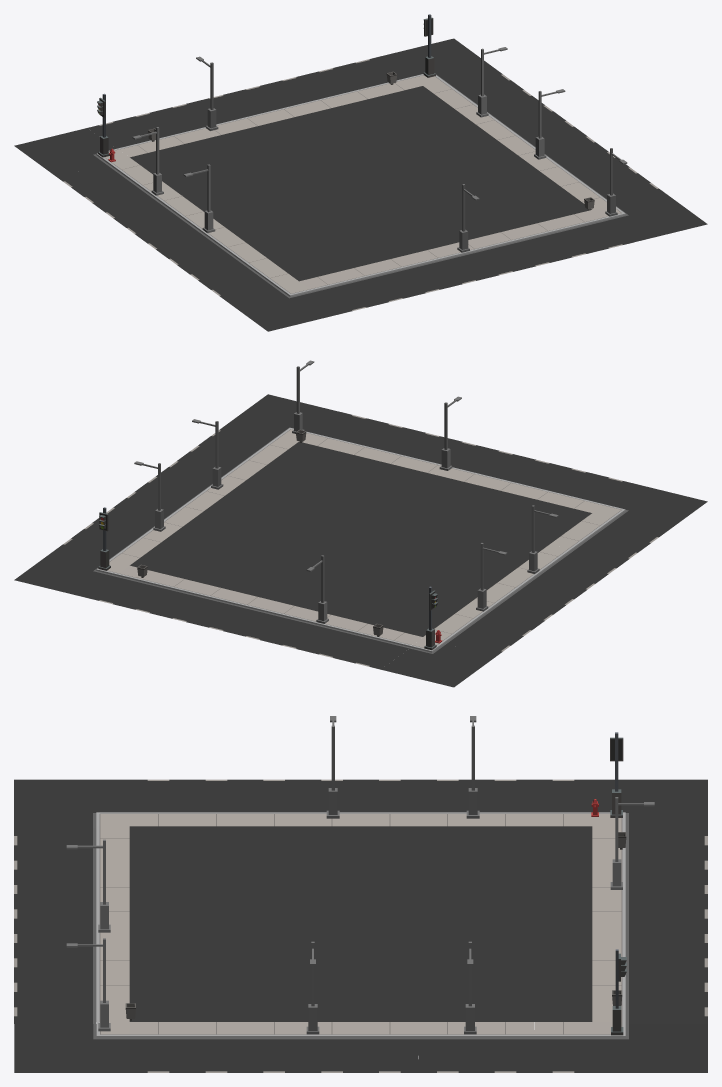
The model's file is block.obj.
3 views of the same model, one above another, from view 1: azimuth 30°, elevation 25°; view 2: azimuth 150°, elevation 25°; view 3: azimuth 270°, elevation 25° (orthographic). The views are drawn at different scales.
Parts seen in each view (by area): view 1: SM_Env_Road_Square9_SM_Env_Road_Square, SM_Env_Road_Corner3_SM_Env_Road_Corner, SM_Env_Road_Corner14_SM_Env_Road_Corner, SM_Env_Road_Corner12_SM_Env_Road_Corner, SM_Env_Road_Corner13_SM_Env_Road_Corner, SM_Env_Road_Straight189_SM_Env_Road_Straight, SM_Env_Road_Straight196_SM_Env_Road_Straight, SM_Env_Road_Straight193_SM_Env_Road_Straight, SM_Env_Road_Straight194_SM_Env_Road_Straight, SM_Env_Road_Straight190_SM_Env_Road_Straight, SM_Env_Road_Straight186_SM_Env_Road_Straight, SM_Env_Road_Straight182_SM_Env_Road_Straight (+25 smaller); view 2: SM_Env_Road_Square9_SM_Env_Road_Square, SM_Env_Road_Corner3_SM_Env_Road_Corner, SM_Env_Road_Corner12_SM_Env_Road_Corner, SM_Env_Road_Corner13_SM_Env_Road_Corner, SM_Env_Road_Corner14_SM_Env_Road_Corner, SM_Env_Road_Straight210_SM_Env_Road_Straight, SM_Env_Road_Straight211_SM_Env_Road_Straight, SM_Env_Road_Straight208_SM_Env_Road_Straight, SM_Env_Road_Straight209_SM_Env_Road_Straight, SM_Env_Road_Straight200_SM_Env_Road_Straight, SM_Env_Road_Straight140_SM_Env_Road_Straight, SM_Env_Road_Straight148_SM_Env_Road_Straight (+25 smaller); view 3: SM_Env_Road_Square9_SM_Env_Road_Square, SM_Env_Road_Corner3_SM_Env_Road_Corner, SM_Env_Road_Corner14_SM_Env_Road_Corner, SM_Env_Road_Corner13_SM_Env_Road_Corner, SM_Env_Road_Corner12_SM_Env_Road_Corner, SM_Env_Road_Straight178_SM_Env_Road_Straight, SM_Env_Road_Straight177_SM_Env_Road_Straight, SM_Env_Road_Straight169_SM_Env_Road_Straight, SM_Env_Road_Straight167_SM_Env_Road_Straight, SM_Env_Road_Straight211_SM_Env_Road_Straight, SM_Env_Road_Straight197_SM_Env_Road_Straight, SM_Env_Road_Straight173_SM_Env_Road_Straight (+34 smaller).
Boxes of the visible parts, x1,y1,x2,y2 form: SM_Env_Road_Square9_SM_Env_Road_Square: [130, 86, 591, 281]; SM_Env_Road_Corner3_SM_Env_Road_Corner: [226, 281, 340, 331]; SM_Env_Road_Corner14_SM_Env_Road_Corner: [592, 193, 707, 241]; SM_Env_Road_Corner12_SM_Env_Road_Corner: [14, 128, 129, 176]; SM_Env_Road_Corner13_SM_Env_Road_Corner: [381, 38, 495, 85]; SM_Env_Road_Straight189_SM_Env_Road_Straight: [372, 254, 450, 295]; SM_Env_Road_Straight196_SM_Env_Road_Straight: [556, 210, 634, 250]; SM_Env_Road_Straight193_SM_Env_Road_Straight: [299, 272, 377, 313]; SM_Env_Road_Straight194_SM_Env_Road_Straight: [336, 263, 414, 304]; SM_Env_Road_Straight190_SM_Env_Road_Straight: [409, 245, 487, 286]; SM_Env_Road_Straight186_SM_Env_Road_Straight: [483, 228, 560, 268]; SM_Env_Road_Straight182_SM_Env_Road_Straight: [519, 219, 597, 259]; SM_Env_Road_Square9_SM_Env_Road_Square: [130, 441, 591, 636]; SM_Env_Road_Corner3_SM_Env_Road_Corner: [592, 483, 707, 532]; SM_Env_Road_Corner12_SM_Env_Road_Corner: [381, 637, 495, 687]; SM_Env_Road_Corner13_SM_Env_Road_Corner: [14, 549, 129, 597]; SM_Env_Road_Corner14_SM_Env_Road_Corner: [226, 394, 340, 441]; SM_Env_Road_Straight210_SM_Env_Road_Straight: [197, 592, 275, 633]; SM_Env_Road_Straight211_SM_Env_Road_Straight: [234, 601, 312, 642]; SM_Env_Road_Straight208_SM_Env_Road_Straight: [124, 574, 202, 615]; SM_Env_Road_Straight209_SM_Env_Road_Straight: [161, 583, 239, 624]; SM_Env_Road_Straight200_SM_Env_Road_Straight: [571, 513, 665, 547]; SM_Env_Road_Straight140_SM_Env_Road_Straight: [550, 528, 643, 563]; SM_Env_Road_Straight148_SM_Env_Road_Straight: [487, 575, 580, 609]; SM_Env_Road_Square9_SM_Env_Road_Square: [129, 826, 592, 1021]; SM_Env_Road_Corner3_SM_Env_Road_Corner: [14, 779, 129, 828]; SM_Env_Road_Corner14_SM_Env_Road_Corner: [14, 1022, 129, 1072]; SM_Env_Road_Corner13_SM_Env_Road_Corner: [592, 1022, 707, 1072]; SM_Env_Road_Corner12_SM_Env_Road_Corner: [592, 779, 707, 828]; SM_Env_Road_Straight178_SM_Env_Road_Straight: [534, 1022, 592, 1072]; SM_Env_Road_Straight177_SM_Env_Road_Straight: [476, 1022, 534, 1072]; SM_Env_Road_Straight169_SM_Env_Road_Straight: [245, 1022, 303, 1072]; SM_Env_Road_Straight167_SM_Env_Road_Straight: [187, 1022, 245, 1072]; SM_Env_Road_Straight211_SM_Env_Road_Straight: [592, 899, 707, 926]; SM_Env_Road_Straight197_SM_Env_Road_Straight: [129, 1022, 187, 1072]; SM_Env_Road_Straight173_SM_Env_Road_Straight: [361, 1022, 418, 1072].
Bounding box in the file's own units: 60 × 8.75 × 60.
Materials: 1 (1 with a texture image).
